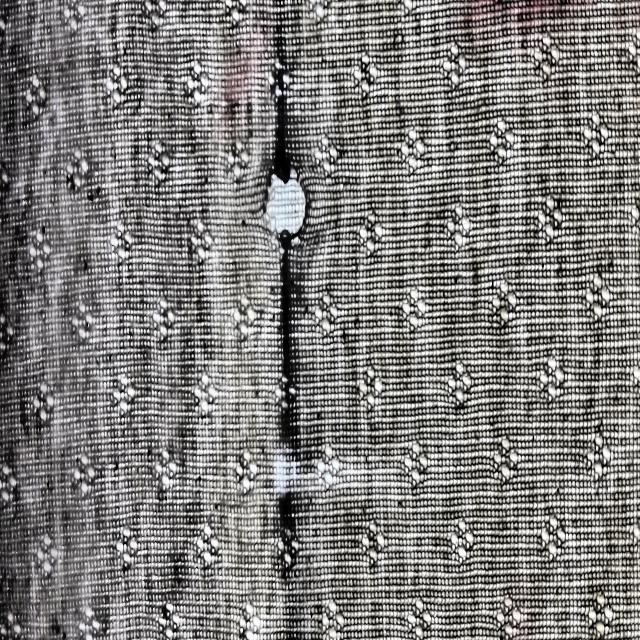Hole: (254, 146, 324, 250)
